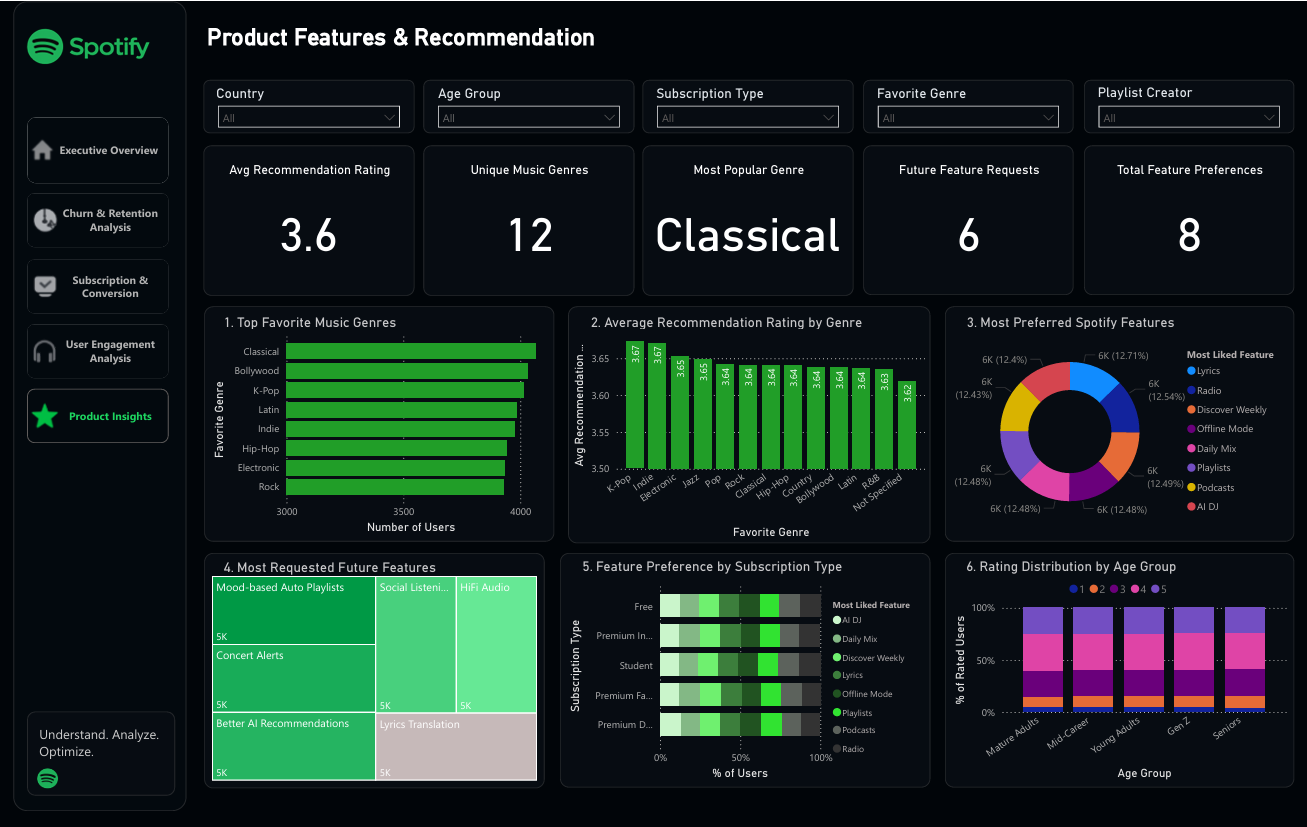

This screenshot's page, from the dashboard's own definition file:
{"tool":"powerbi","page":{"name":"Product & Feature Insights","canvas":[1620,1024],"ordinal":4},"visuals":[{"type":"card","title":"Avg Recommendation Rating","fields":{"Values":["Avg(Data.music_suggestion_rating_1_to_5)"]},"box":[250.8,178.5,260.8,185.4],"z":0},{"type":"card","title":"Unique Music Genres","fields":{"Values":["Count(Data.favorite_genre)"]},"box":[523.1,178.5,260.8,185.4],"z":1000},{"type":"card","title":"Most Popular Genre","fields":{"Values":["Min(Data.favorite_genre)"]},"box":[793.8,178.5,260.8,185.4],"z":2000},{"type":"card","title":"Future Feature Requests","fields":{"Values":["Count(Data.desired_future_feature)"]},"box":[1066.9,178.5,260,184.6],"z":3000},{"type":"card","title":"Total Feature Preferences","fields":{"Values":["CountNonNull(Data.most_liked_feature)"]},"box":[1340,178.5,260,184.6],"z":4000},{"type":"clusteredBarChart","title":" ","fields":{"Category":["Data.favorite_genre"],"Y":["Data.Total Users"]},"box":[251.7,376.7,433.3,291.7],"z":5000},{"type":"clusteredColumnChart","title":" ","fields":{"Category":["Data.favorite_genre"],"Y":["Avg(Data.music_suggestion_rating_1_to_5)"]},"box":[702.2,376.7,447.8,293.3],"z":6000},{"type":"donutChart","title":" ","fields":{"Category":["Data.most_liked_feature"],"Y":["Data.Total Users"]},"box":[1168.3,376.7,431.7,291.7],"z":7000},{"type":"treemap","title":" ","fields":{"Group":["Data.desired_future_feature"],"Values":["Data.Total Users"]},"box":[251.7,681.7,421.7,291.7],"z":8000},{"type":"slicer","title":" ","fields":{"Values":["Data.Playlist Creator Category"]},"box":[1340,96.5,260,66.1],"z":9000},{"type":"slicer","title":" ","fields":{"Values":["Data.country"]},"box":[250.9,96.7,260.9,66.1],"z":10000},{"type":"slicer","title":" ","fields":{"Values":["Data.Age Group"]},"box":[523,96.7,260.9,66.1],"z":11000},{"type":"slicer","title":" ","fields":{"Values":["Data.subscription_type"]},"box":[793.9,96.7,260.9,66.1],"z":12000},{"type":"slicer","title":" ","fields":{"Values":["Data.favorite_genre"]},"box":[1067,96.7,260,66.1],"z":13000},{"type":"hundredPercentStackedBarChart","title":" ","fields":{"Category":["Data.subscription_type"],"Y":["Data.Total Users"],"Series":["Data.most_liked_feature"]},"box":[691.7,681.7,458.3,290],"z":14000},{"type":"hundredPercentStackedColumnChart","title":" ","fields":{"Category":["Data.Age Group"],"Y":["Data.Total Users"],"Series":["Data.music_suggestion_rating_1_to_5"]},"box":[1168.3,681.7,431.7,290],"z":15000},{"type":"shape","box":[15.7,0,214.3,1001.4],"z":16000},{"type":"textbox","title":"Country","box":[262.1,102.6,90,25.8],"z":17000},{"type":"textbox","title":"Age Group","box":[535.8,102.6,110,23.2],"z":18000},{"type":"textbox","title":"Subscription Type","box":[806.3,103.7,180,24.2],"z":19000},{"type":"textbox","title":"Favorite Genre","box":[1078.9,102.6,180,25.8],"z":20000},{"type":"textbox","title":"Playlist Creator","box":[1351.6,101.6,138.4,25.8],"z":21000},{"type":"shape","box":[33,878,183,104],"z":22000},{"type":"textbox","box":[42.5,889.5,165.5,57],"z":23000},{"type":"textbox","title":"Product Features & Recommendation Insights","box":[251,27,559,31],"z":24000},{"type":"actionButton","box":[32.9,142.9,175,82.5],"z":25000},{"type":"actionButton","box":[32.9,236.7,175,67.5],"z":26000},{"type":"actionButton","box":[32.9,318.8,175,67.1],"z":27000},{"type":"actionButton","box":[32.9,398.8,175,67.5],"z":28000},{"type":"actionButton","box":[32.9,478.8,175,67.5],"z":29000},{"type":"image","box":[0,0,225.7,121.4],"z":30000},{"type":"textbox","title":"1. Top Favorite Music Genres","box":[270.6,385.6,260,26.2],"z":31000},{"type":"card","fields":{"Values":["Avg(Data.music_suggestion_rating_1_to_5)"]},"box":[250.6,244.4,260.6,71.2],"z":32000},{"type":"card","fields":{"Values":["Count(Data.favorite_genre)"]},"box":[523.1,244.4,260.6,71.2],"z":33000},{"type":"card","fields":{"Values":["Min(Data.favorite_genre)"]},"box":[793.8,244.4,260.6,71.2],"z":34000},{"type":"card","fields":{"Values":["Count(Data.desired_future_feature)"]},"box":[1066.9,244.4,260,71.2],"z":35000},{"type":"card","fields":{"Values":["Count(Data.most_liked_feature)"]},"box":[1340,244.4,260,71.2],"z":36000},{"type":"textbox","title":"2. Average Recommendation Rating by Genre","box":[725,385.6,408.8,25.6],"z":37000},{"type":"textbox","title":"3. Most Preferred Spotify Features","box":[1190,386.2,337.5,25],"z":38000},{"type":"textbox","title":"4. Most Requested Future Features","box":[271.2,688.8,320,25],"z":39000},{"type":"textbox","title":"5. Feature Preference by Subscription Type","box":[713.8,688.1,378.1,25.6],"z":40000},{"type":"textbox","title":"6. Rating Distribution by Age Group","box":[1189.4,687.5,401.2,25.6],"z":41000},{"type":"image","box":[42.7,947.3,30,27.3],"z":42000}]}

Visuals, with their boxes on the page's 1620x1024 design canvas (x1, y1, x2, y2). These are canvas units, not pixel positions in the 1307x827 screenshot, which may show the page scaled, cropped or inside an application window:
"Avg Recommendation Rating" card: 251 178 512 364
"Unique Music Genres" card: 523 178 784 364
"Most Popular Genre" card: 794 178 1055 364
"Future Feature Requests" card: 1067 178 1327 363
"Total Feature Preferences" card: 1340 178 1600 363
" " clusteredBarChart: 252 377 685 668
" " clusteredColumnChart: 702 377 1150 670
" " donutChart: 1168 377 1600 668
" " treemap: 252 682 673 973
" " slicer: 1340 96 1600 163
" " slicer: 251 97 512 163
" " slicer: 523 97 784 163
" " slicer: 794 97 1055 163
" " slicer: 1067 97 1327 163
" " hundredPercentStackedBarChart: 692 682 1150 972
" " hundredPercentStackedColumnChart: 1168 682 1600 972
shape: 16 0 230 1001
"Country" textbox: 262 103 352 128
"Age Group" textbox: 536 103 646 126
"Subscription Type" textbox: 806 104 986 128
"Favorite Genre" textbox: 1079 103 1259 128
"Playlist Creator" textbox: 1352 102 1490 127
shape: 33 878 216 982
textbox: 42 890 208 946
"Product Features & Recommendation Insights" textbox: 251 27 810 58
actionButton: 33 143 208 225
actionButton: 33 237 208 304
actionButton: 33 319 208 386
actionButton: 33 399 208 466
actionButton: 33 479 208 546
image: 0 0 226 121
"1. Top Favorite Music Genres" textbox: 271 386 531 412
card - Avg(Data.music_suggestion_rating_1_to_5): 251 244 511 316
card - Count(Data.favorite_genre): 523 244 784 316
card - Min(Data.favorite_genre): 794 244 1054 316
card - Count(Data.desired_future_feature): 1067 244 1327 316
card - Count(Data.most_liked_feature): 1340 244 1600 316
"2. Average Recommendation Rating by Genre" textbox: 725 386 1134 411
"3. Most Preferred Spotify Features" textbox: 1190 386 1528 411
"4. Most Requested Future Features" textbox: 271 689 591 714
"5. Feature Preference by Subscription Type" textbox: 714 688 1092 714
"6. Rating Distribution by Age Group" textbox: 1189 688 1591 713
image: 43 947 73 975
